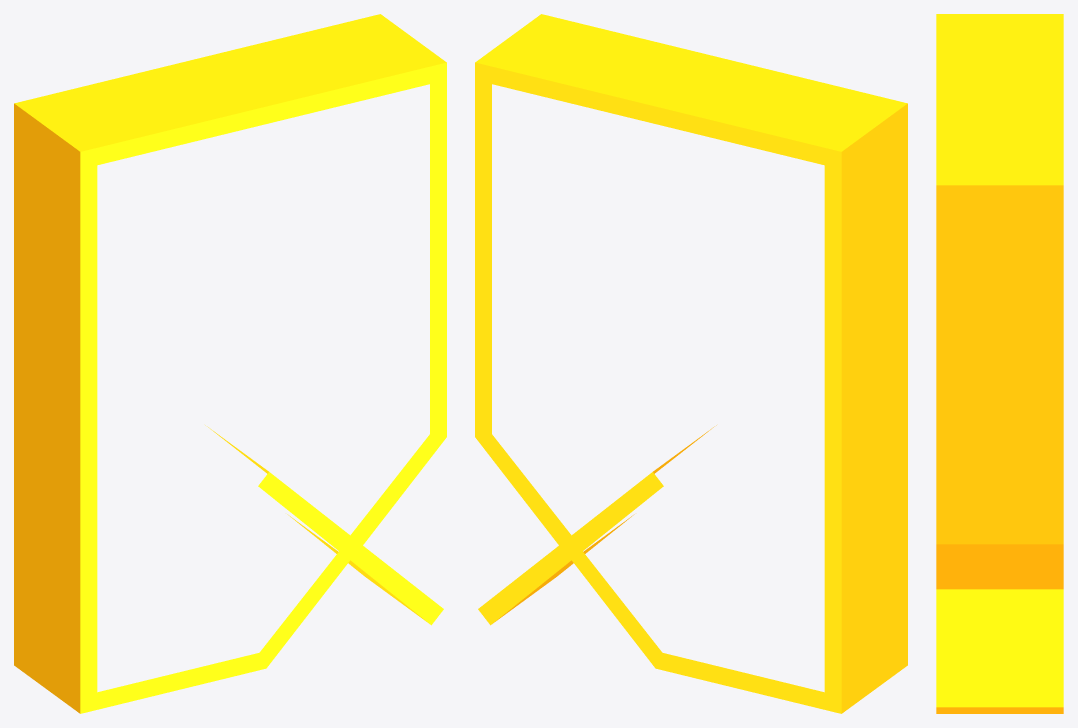
3 renders of one model, left to right at view 1: azimuth 30°, elevation 25°; view 2: azimuth 150°, elevation 25°; view 3: azimuth 270°, elevation 25°, orthographic. The views are drawn at different scales.
Parts seen in each view (by area): view 1: q_AlphaProta_Yellow; view 2: q_AlphaProta_Yellow; view 3: q_AlphaProta_Yellow.
Boxes of the visible parts, <box> form: q_AlphaProta_Yellow: <box>14,14,446,713</box>; q_AlphaProta_Yellow: <box>475,14,907,713</box>; q_AlphaProta_Yellow: <box>936,14,1063,713</box>.
Size of what is drawn, in the model's own units: 0.1436 by 0.2105 by 0.045.
Materials: 2 (2 with a texture image).
